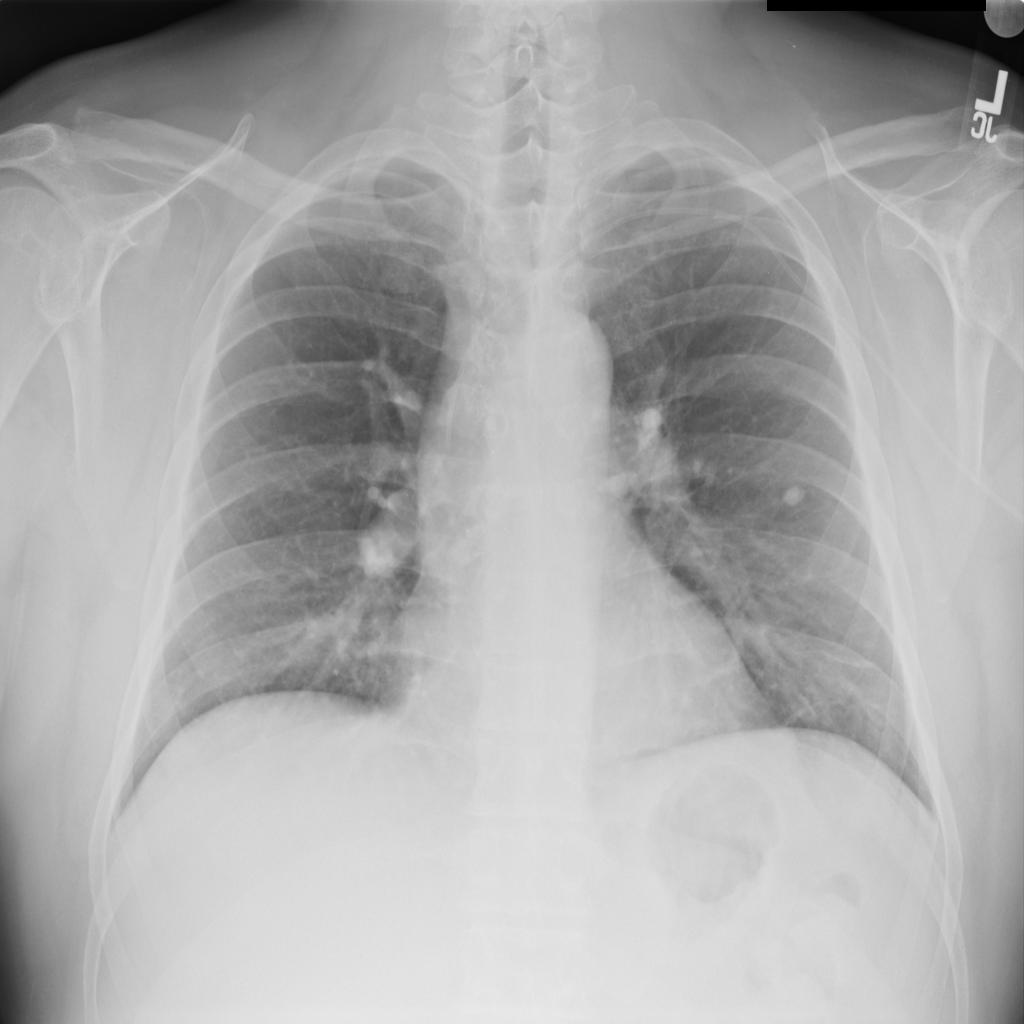nodule: (346, 499, 418, 587), (768, 472, 820, 519)
